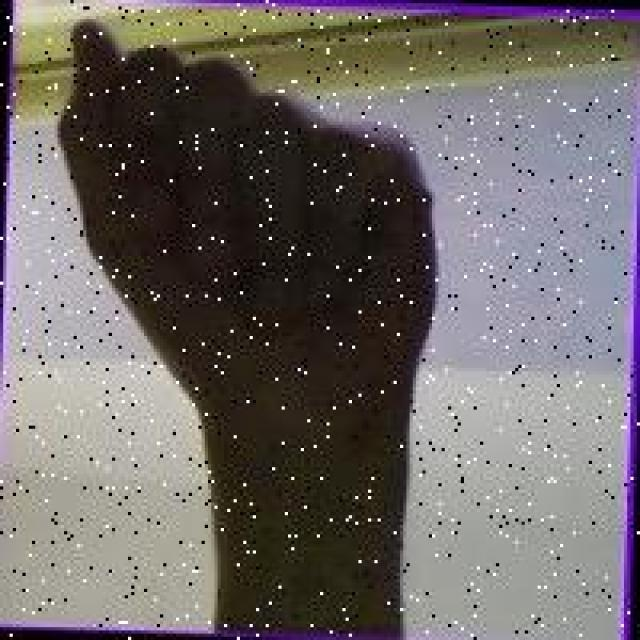A: (40, 13, 443, 470)
